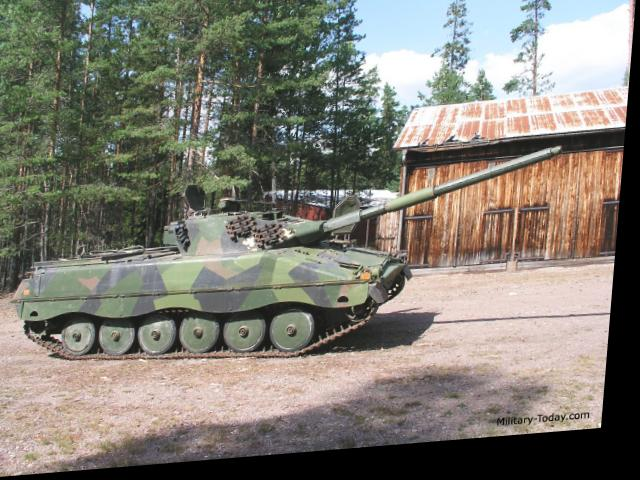tank: (9, 189, 421, 367)
